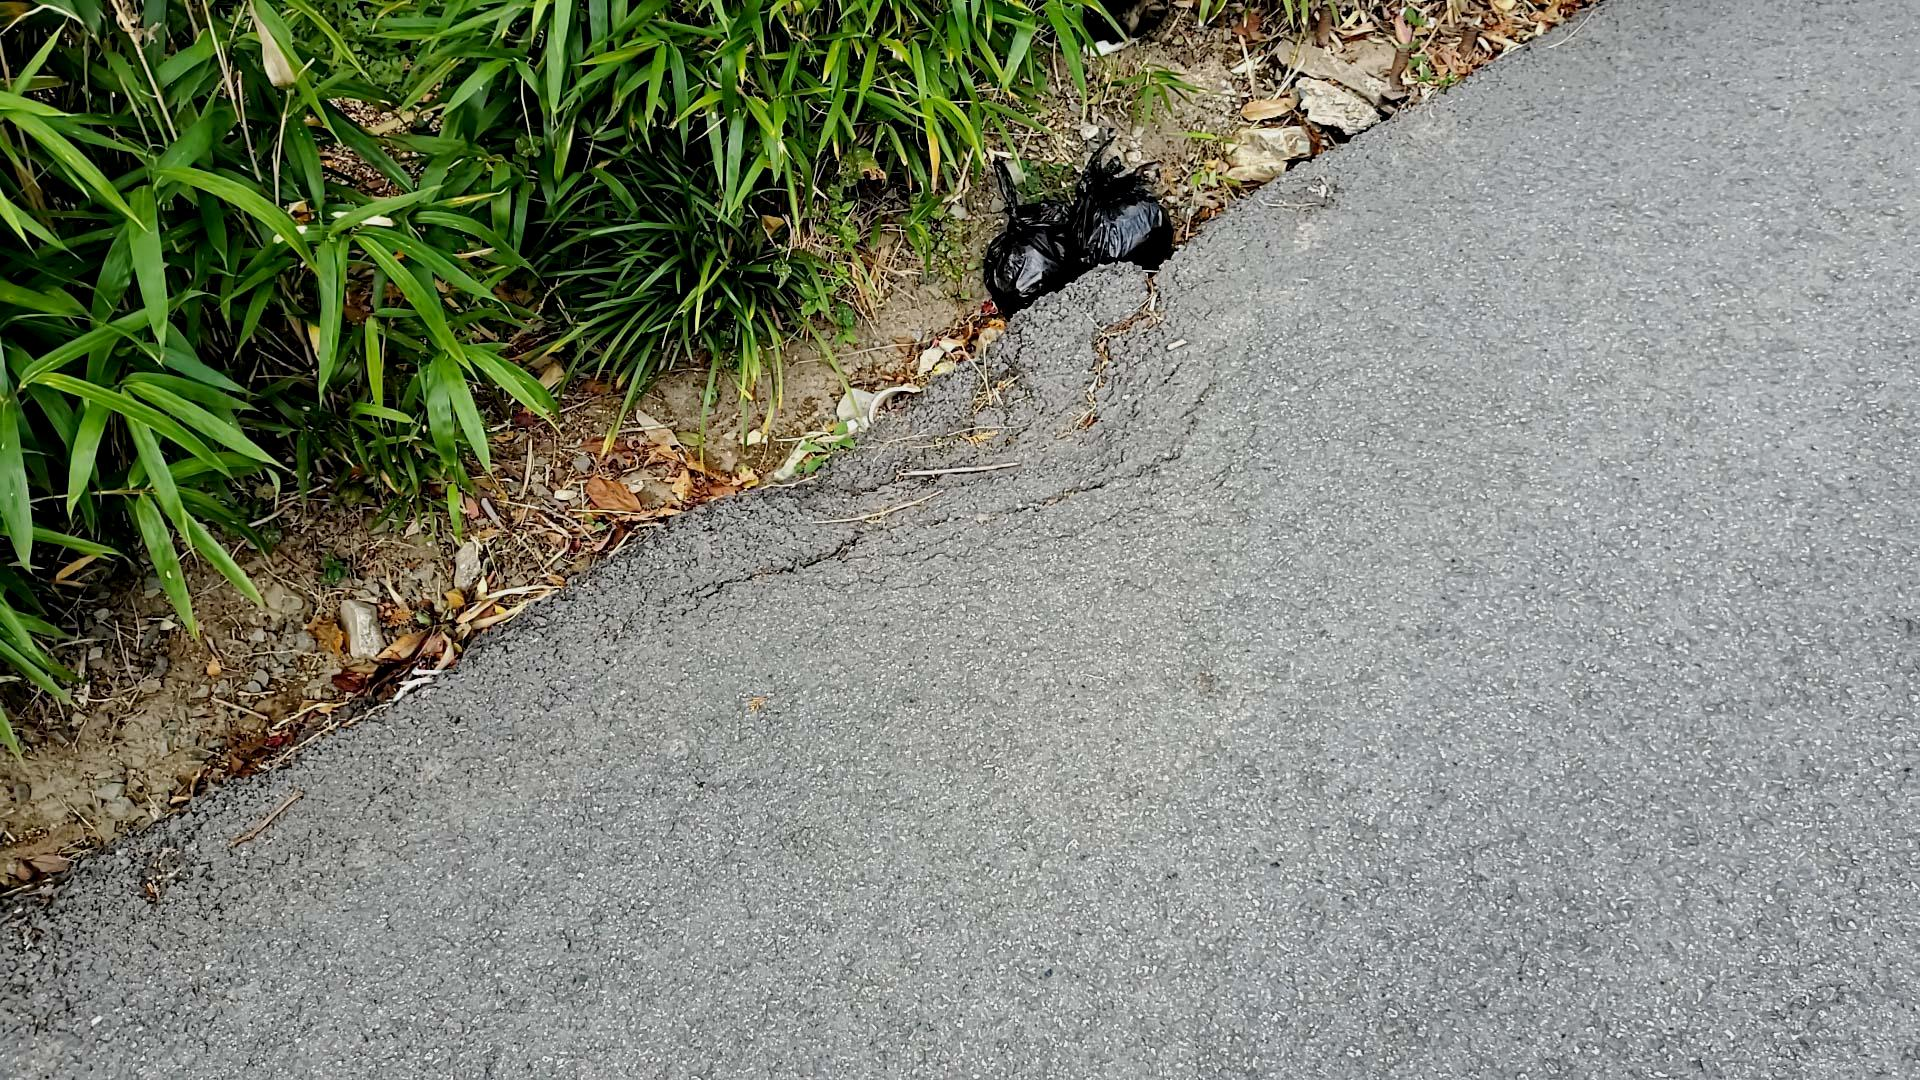black_bag: (975, 152, 1084, 314), (1063, 131, 1180, 273)
